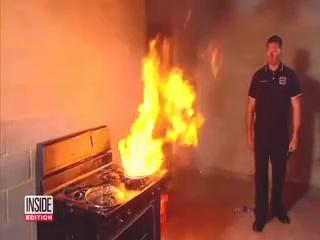Fire: (122, 53, 213, 178)
